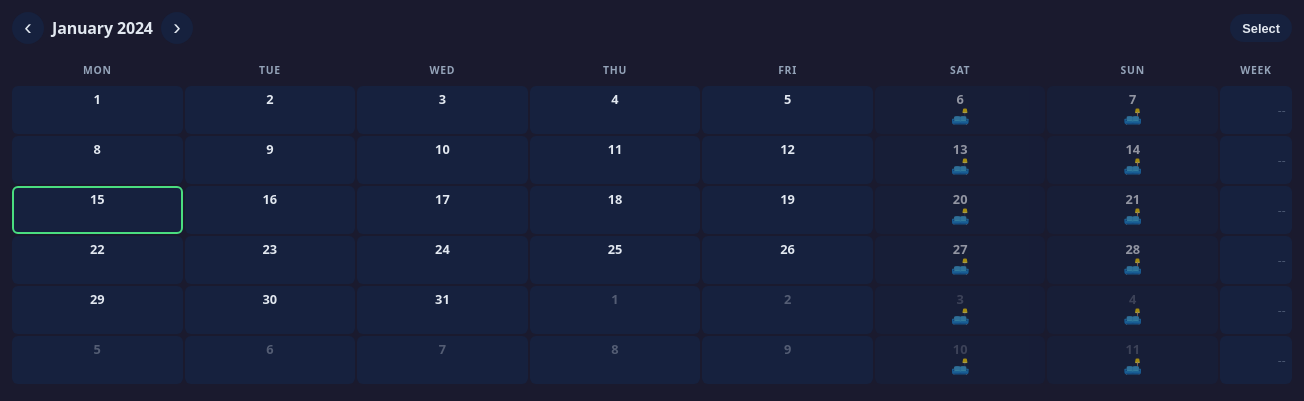
Test: CalendarView › navigates to the previous and next month, wrapping across year boundaries
Check: the text "January 2024" is shown, box x1=52 y1=17 x2=153 y2=39
Click the button named "Previous month" at coordinates (28, 28), box x1=12 y1=12 x2=44 y2=44
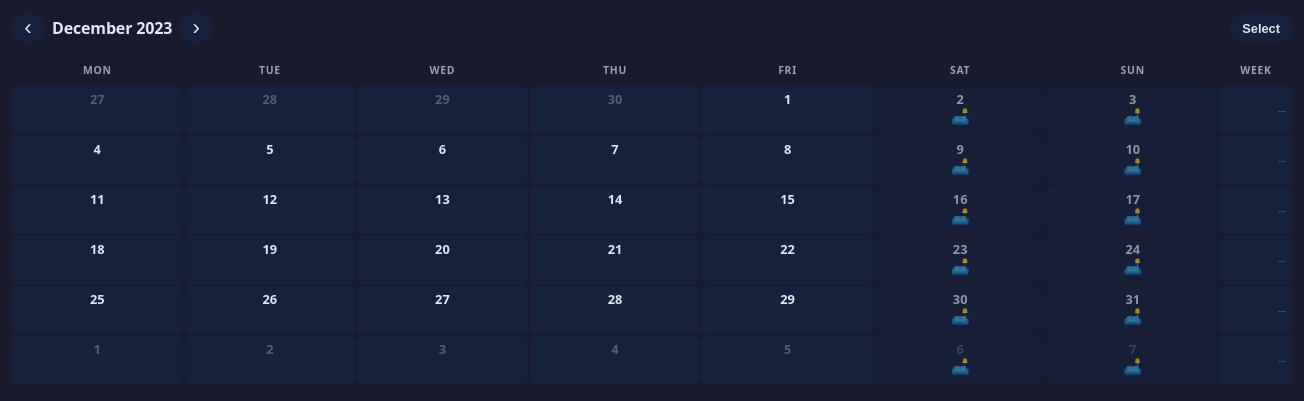
Check: the text "December 2023" is shown, box x1=52 y1=17 x2=172 y2=39
Click the button named "Next month" at coordinates (196, 28), box x1=180 y1=12 x2=212 y2=44
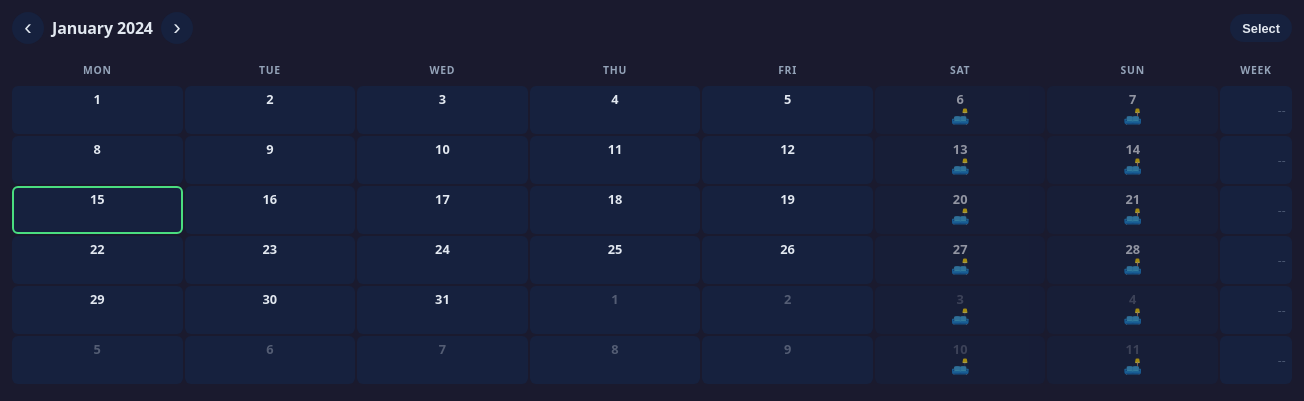
Click the button named "Next month" at coordinates (177, 28), box x1=161 y1=12 x2=193 y2=44
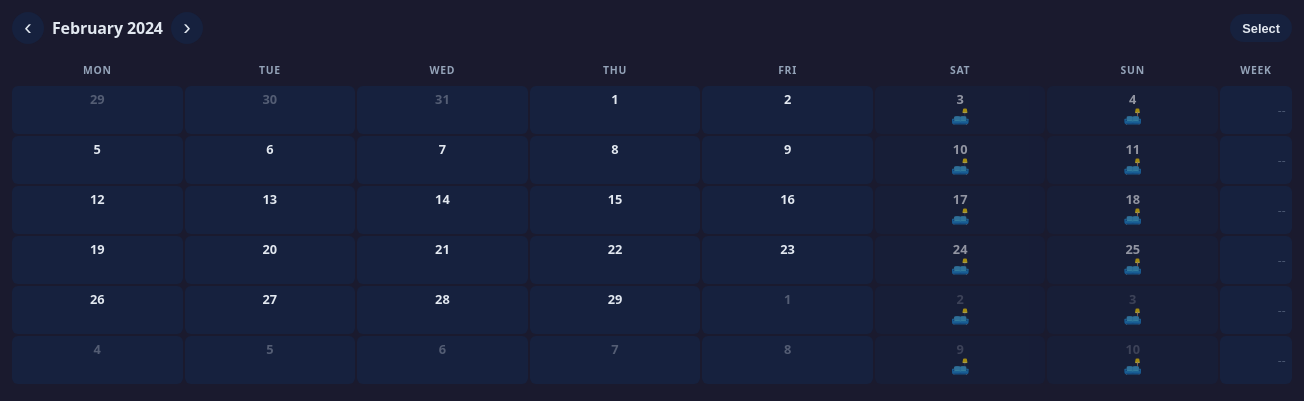
Check: the text "February 2024" is shown, box x1=52 y1=17 x2=163 y2=39
